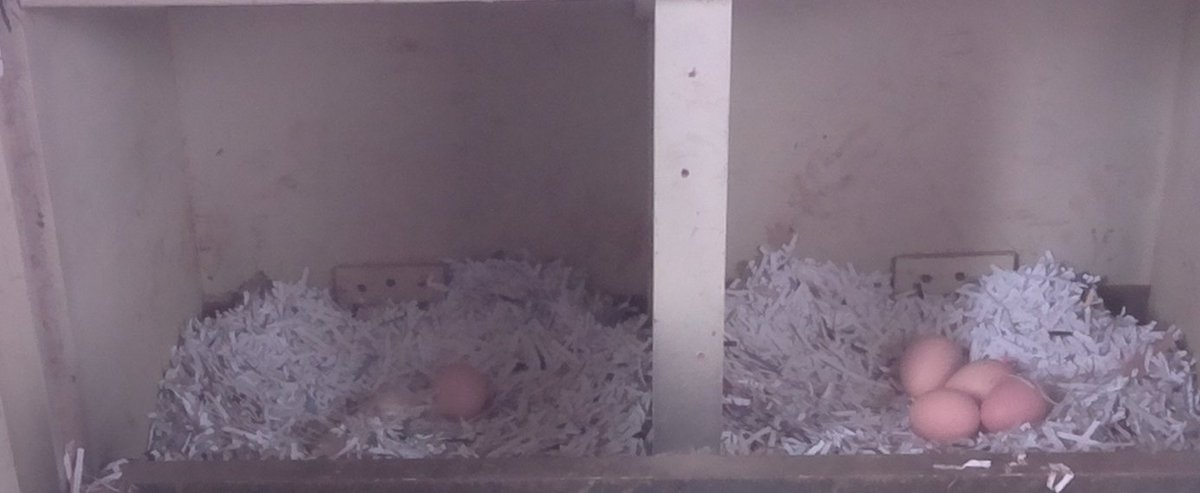egg: (900, 385, 987, 447), (980, 371, 1058, 438), (425, 357, 493, 430), (895, 330, 966, 395), (937, 354, 1018, 399)
